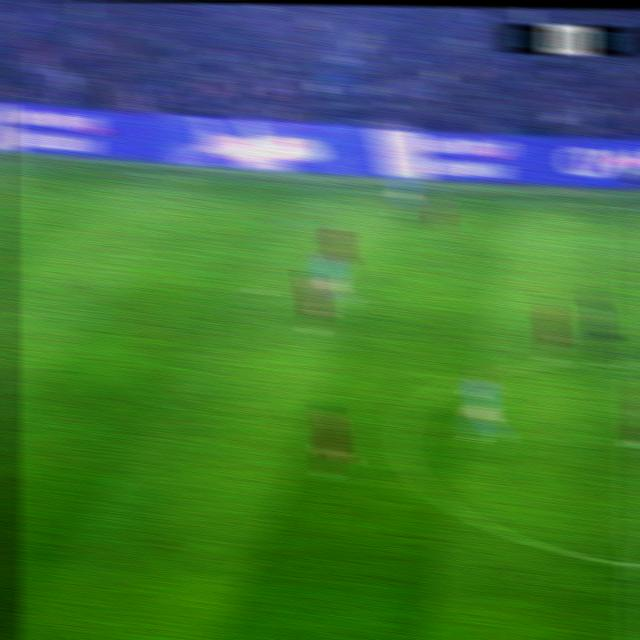halfcircle_bottom: (615, 545, 640, 582)
halfcircle_top: (615, 349, 640, 382)
midline_top_intersection: (617, 197, 640, 220)
